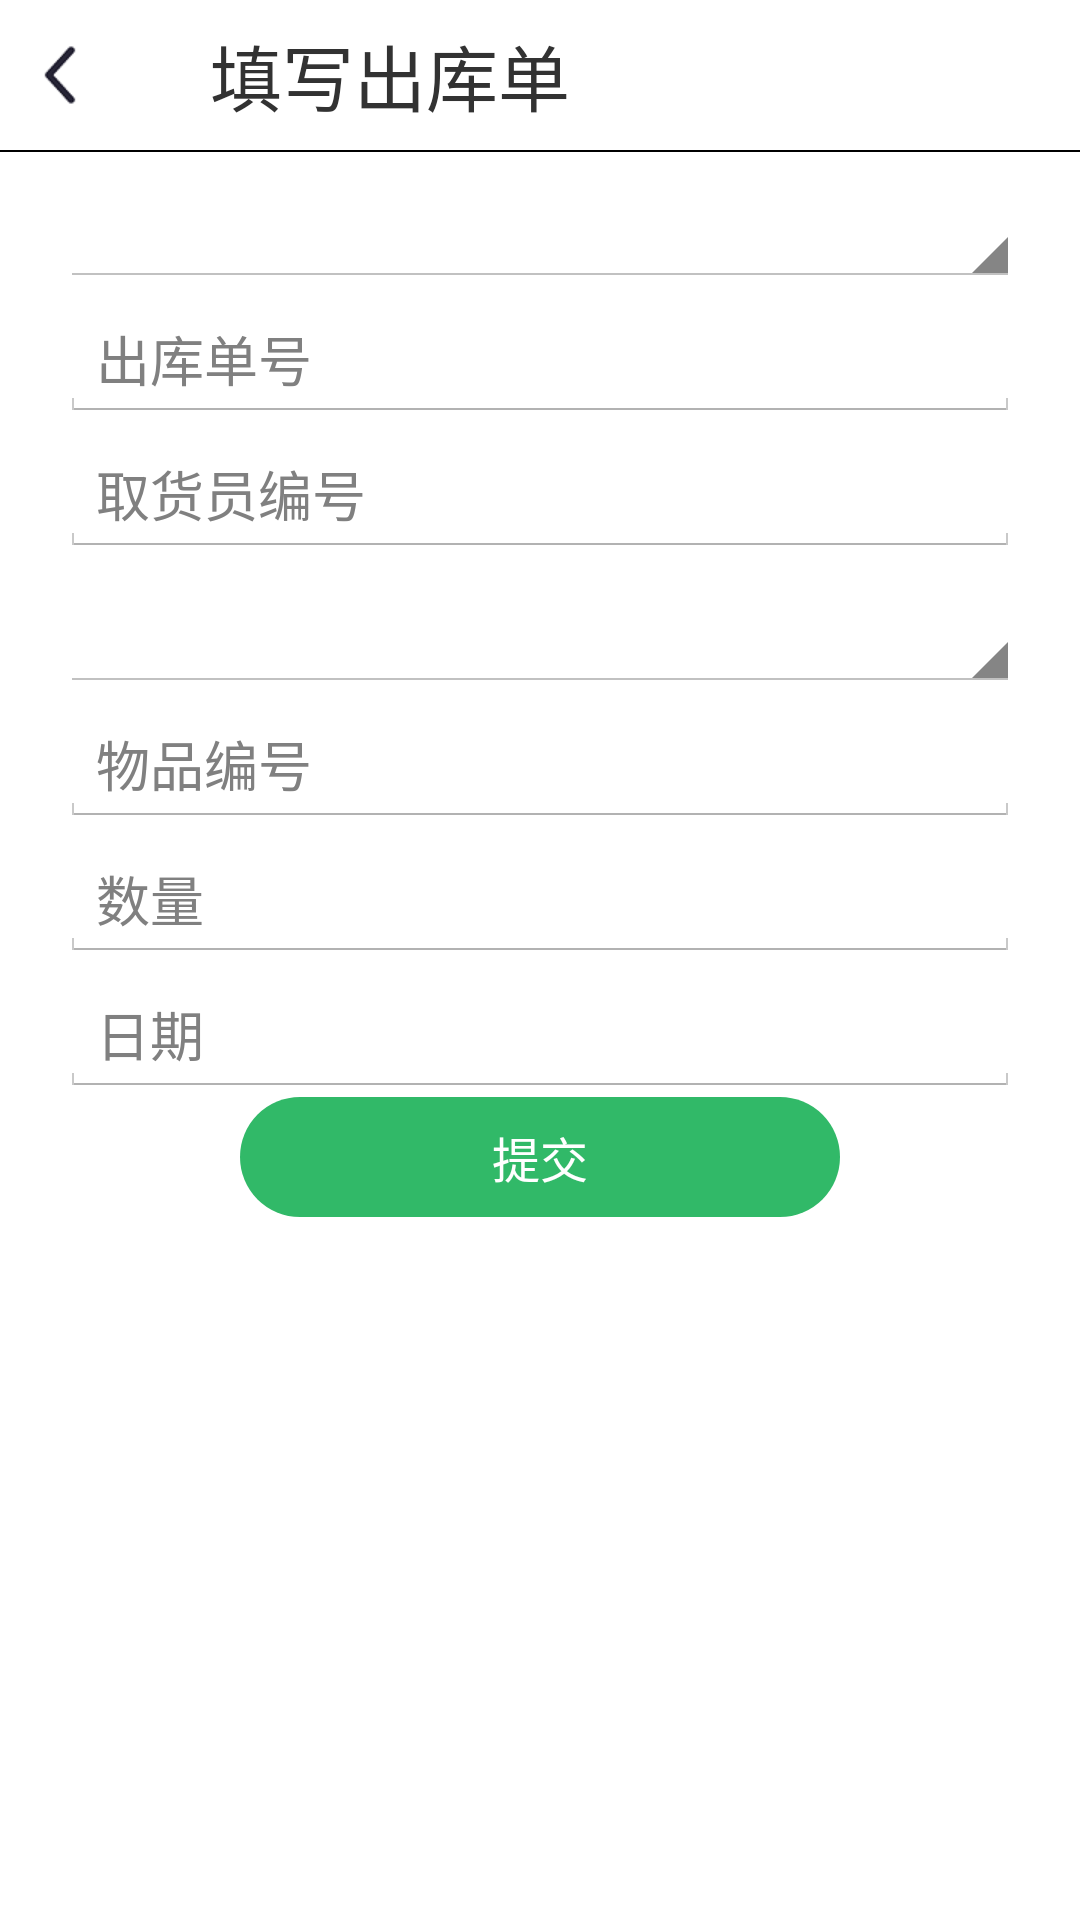

Icons on this 1080×1920 Android screen, each with the point to tap as (x=x, y=y):
arrow back: (x=60, y=75)
